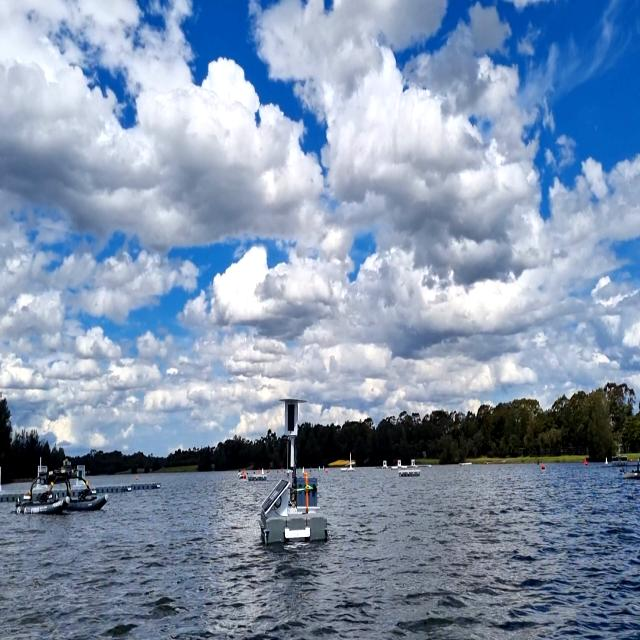led: (286, 402, 297, 433)
